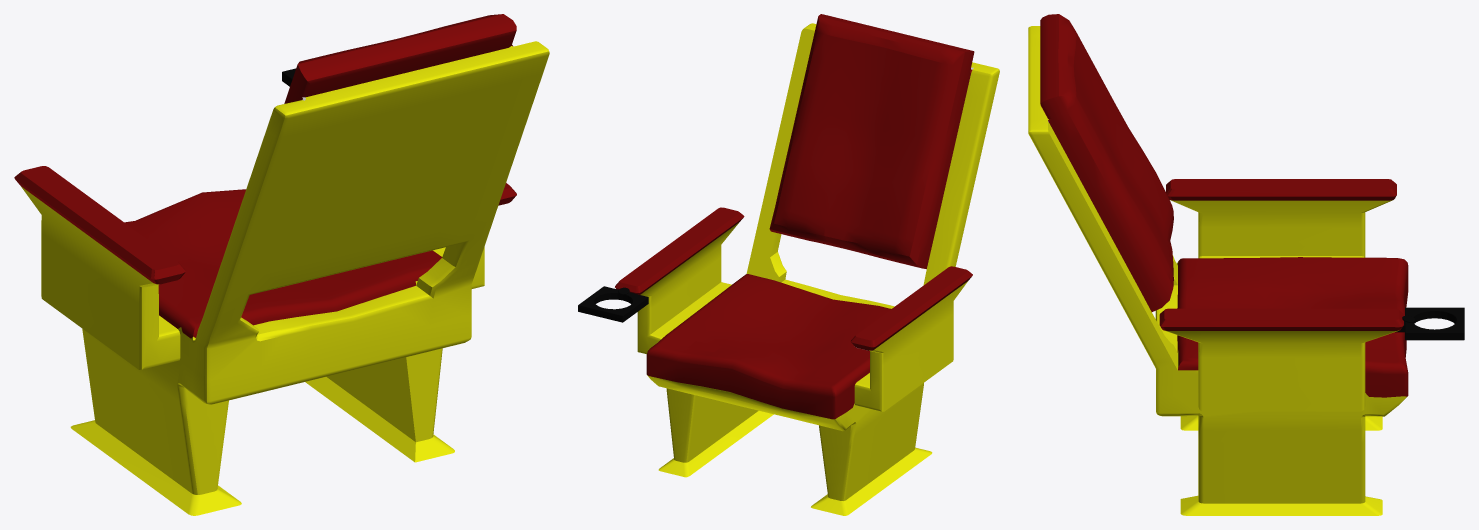
Rendered from chair3.fbx.
The picture shows the model from 3 angles, left to right: view 1: azimuth 30°, elevation 25°; view 2: azimuth 150°, elevation 25°; view 3: azimuth 270°, elevation 25°; orthographic projection. The views are drawn at different scales.
Parts seen in each view (by area): view 1: pCube5; view 2: pCube5; view 3: pCube5.
Part boxes in pixels (left/top/right/bottom): pCube5: left=14, top=14, right=549, bottom=515; pCube5: left=578, top=14, right=999, bottom=515; pCube5: left=1028, top=14, right=1464, bottom=515.
Size of the model in its own units: 4.6 by 5.87 by 5.68.
